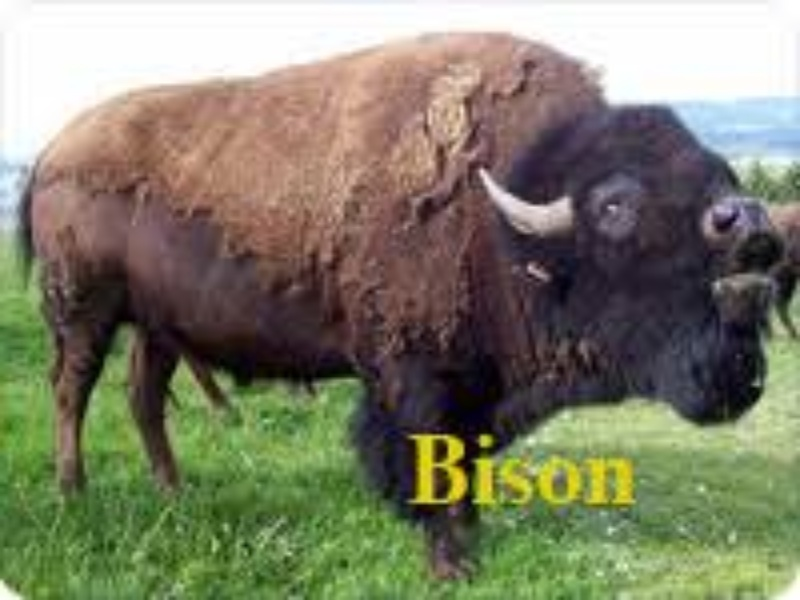buffalo: (33, 42, 782, 510)
